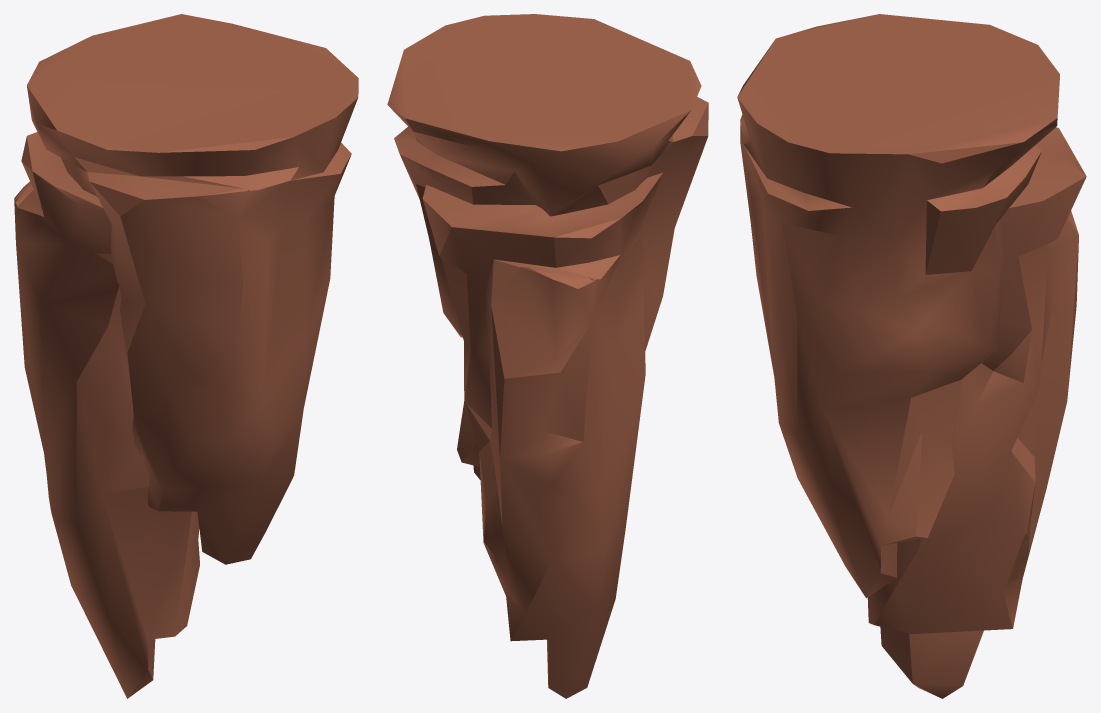
The model's file is Cliff_A.fbx.
3 renders of one model, left to right at view 1: azimuth 30°, elevation 25°; view 2: azimuth 150°, elevation 25°; view 3: azimuth 270°, elevation 25°, orthographic. The views are drawn at different scales.
Visible parts, largest first — view 1: Cliff_A; view 2: Cliff_A; view 3: Cliff_A.
Part boxes in pixels (x1,y1,x2,y2): Cliff_A: (14,14,358,698); Cliff_A: (387,14,708,698); Cliff_A: (737,14,1086,698).
Size of the model in its own units: 5294 by 10961 by 5442.
